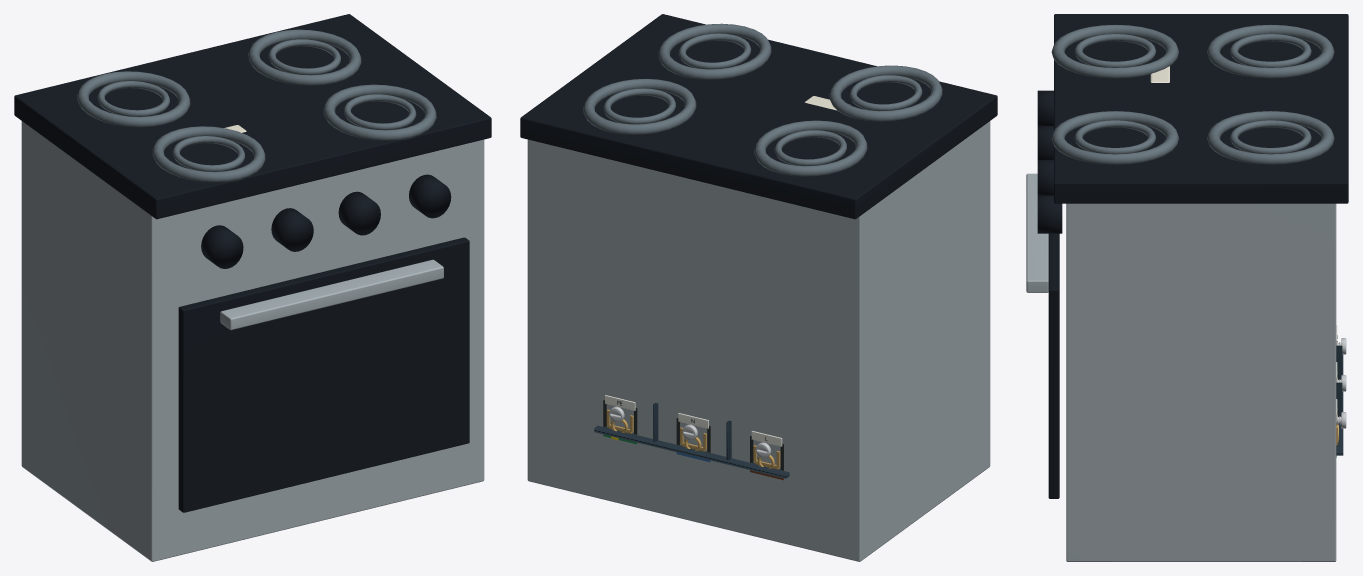
File: cooker_default.glb
3 renders of one model, left to right at view 1: azimuth 30°, elevation 25°; view 2: azimuth 150°, elevation 25°; view 3: azimuth 270°, elevation 25°, orthographic. The views are drawn at different scales.
Parts seen in each view (by area): view 1: part:body · Original 2a8198d3, part:body · Original 3ff2d46d, part:element · Original 0905ee26, part:actuator · Original 3ff2d46d; view 2: part:body · Original 2a8198d3, part:body · Original 3ff2d46d, part:element · Original 0905ee26, part:terminals · Original a463fd81; view 3: part:body · Original 2a8198d3, part:body · Original 3ff2d46d, part:element · Original 0905ee26, part:actuator · Original 3ff2d46d, part:terminals · Original a463fd81.
Part boxes in pixels (bbox=[...]): part:body · Original 2a8198d3: bbox=[21, 121, 484, 561]; part:body · Original 3ff2d46d: bbox=[14, 14, 491, 512]; part:element · Original 0905ee26: bbox=[77, 29, 436, 182]; part:actuator · Original 3ff2d46d: bbox=[201, 174, 451, 268]; part:body · Original 2a8198d3: bbox=[527, 121, 990, 561]; part:body · Original 3ff2d46d: bbox=[520, 14, 997, 219]; part:element · Original 0905ee26: bbox=[583, 23, 942, 176]; part:terminals · Original a463fd81: bbox=[594, 403, 789, 478]; part:body · Original 2a8198d3: bbox=[1026, 173, 1336, 561]; part:body · Original 3ff2d46d: bbox=[1048, 14, 1348, 498]; part:element · Original 0905ee26: bbox=[1051, 24, 1334, 164]; part:actuator · Original 3ff2d46d: bbox=[1037, 90, 1062, 233]; part:terminals · Original a463fd81: bbox=[1336, 345, 1343, 455].
Size of the model in its own units: 1.27 by 1.36 by 1.02.
